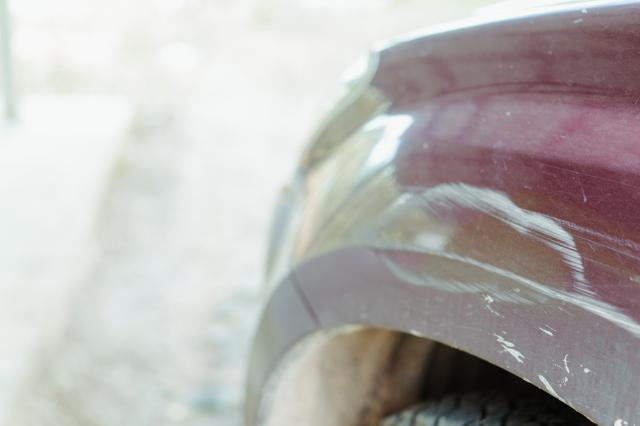scratch: (361, 183, 640, 341)
